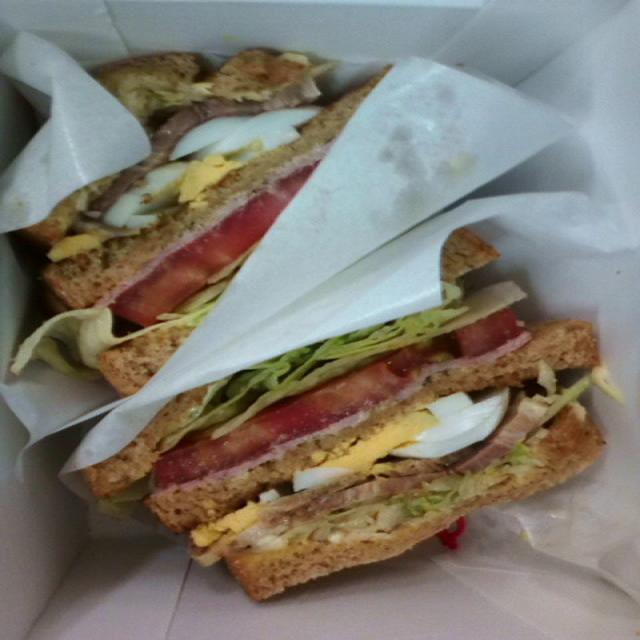三明治: (81, 234, 614, 612), (11, 24, 512, 392)
